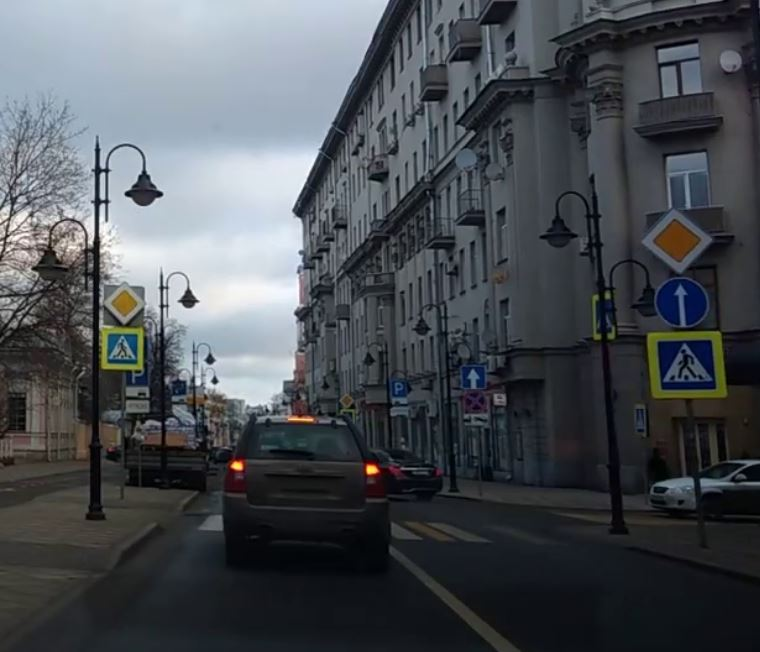Yaya Gecidi: (658, 339, 719, 390), (107, 332, 140, 364)
